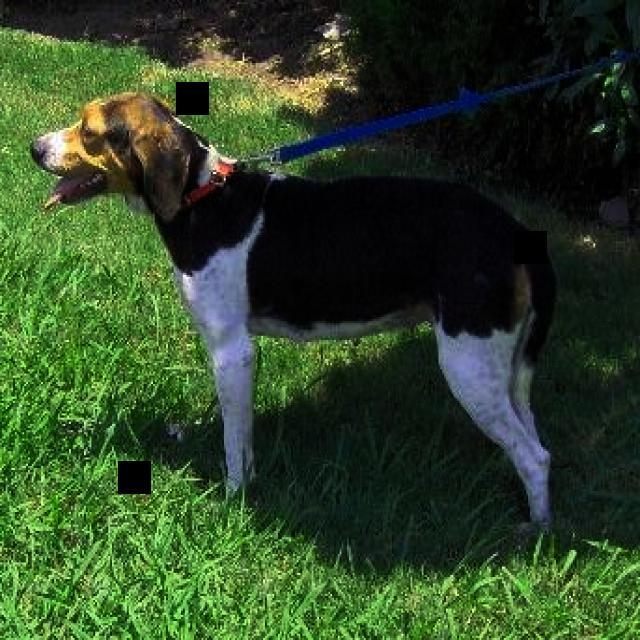adult_dog: (28, 91, 559, 534)
